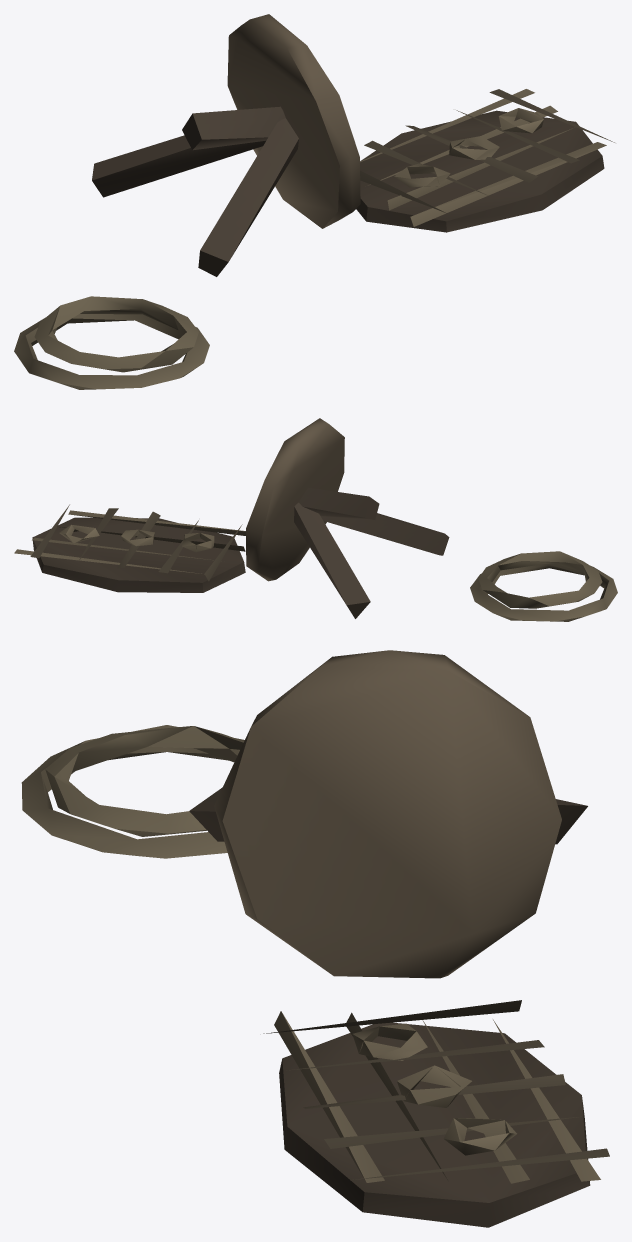
Rendered from mender_stool_c_lod2.glb.
3 views of the same model, one above another, from view 1: azimuth 30°, elevation 25°; view 2: azimuth 150°, elevation 25°; view 3: azimuth 270°, elevation 25° (orthographic). The views are drawn at different scales.
Visible parts, largest first — view 1: Surface.001; view 2: Surface.001; view 3: Surface.001.
Boxes of the visible parts, x1=… form: Surface.001: x1=14, y1=14, x2=614, y2=389; Surface.001: x1=14, y1=418, x2=617, y2=621; Surface.001: x1=21, y1=650, x2=609, y2=1227.
Size of the model in its own units: 2.56 by 0.823 by 1.32.
